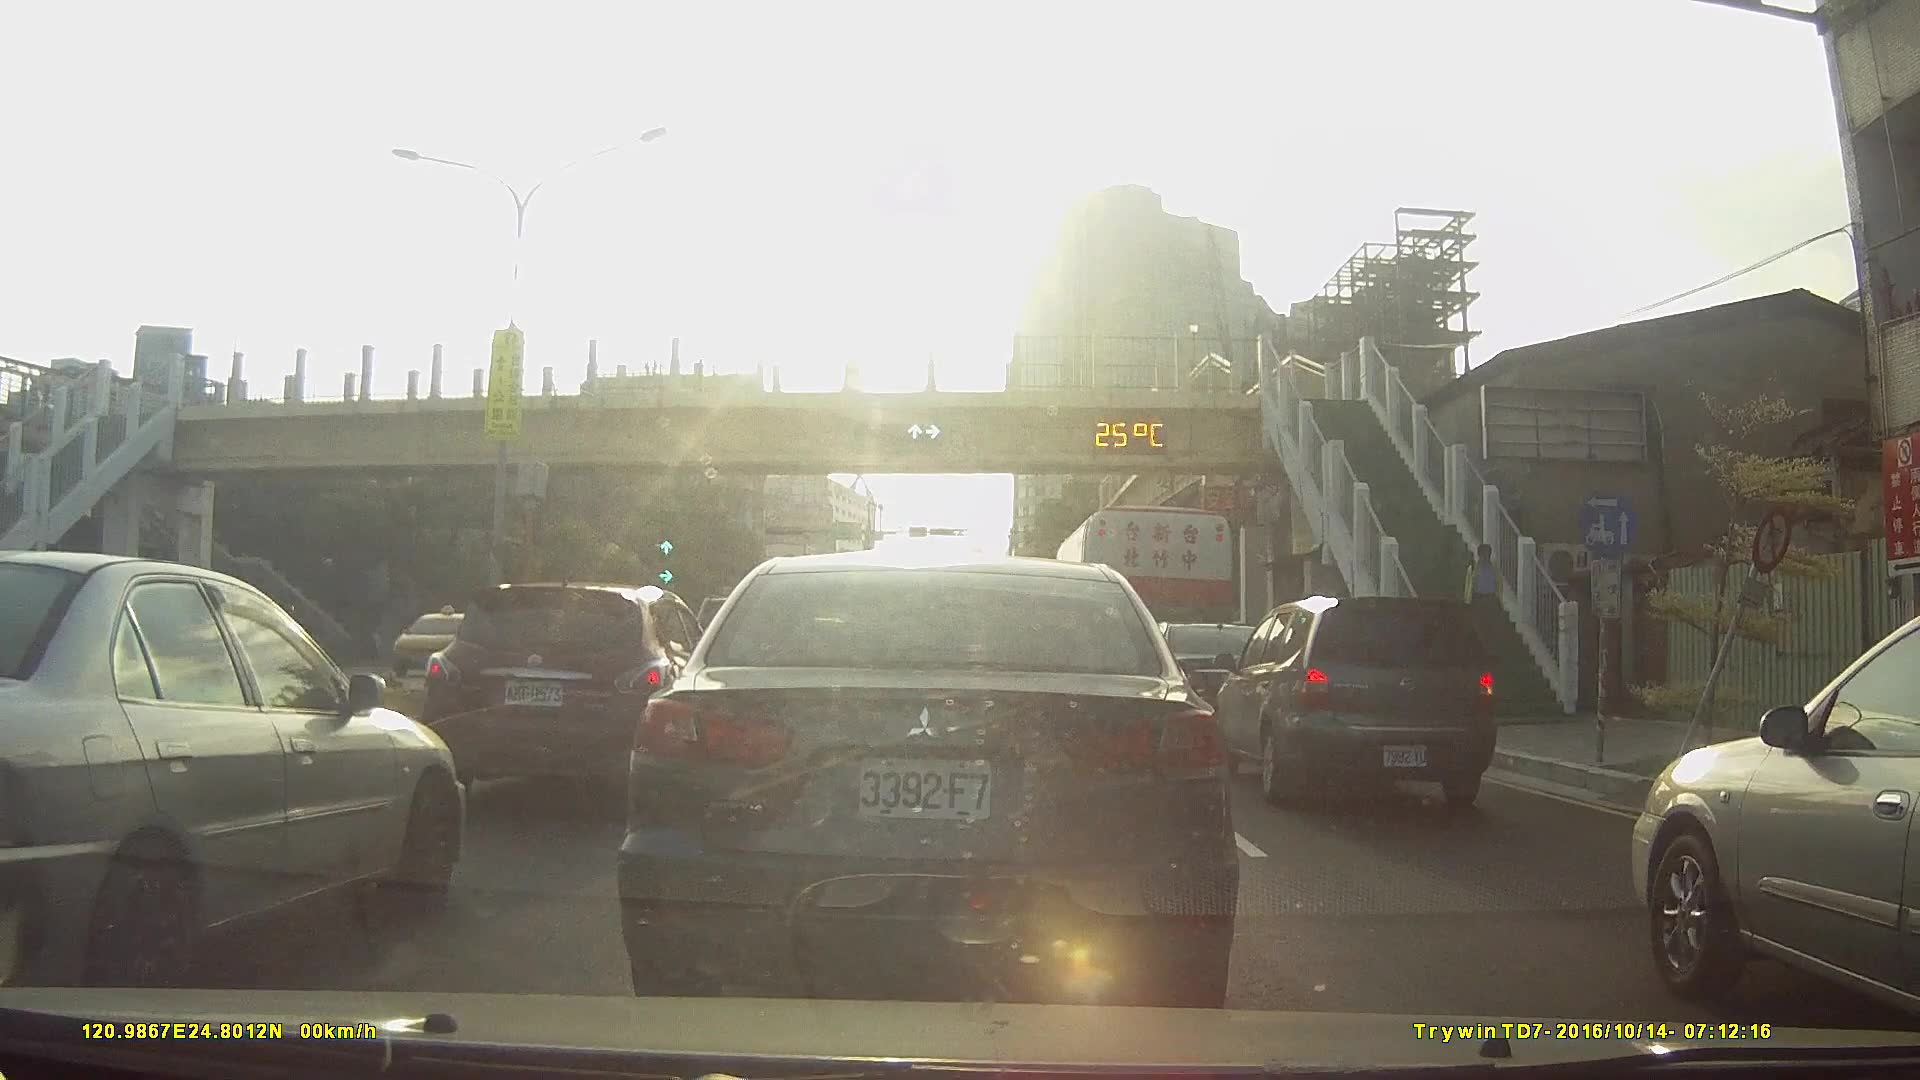pedestrian: (1463, 543, 1512, 649)
vehicle: (614, 553, 1240, 1002), (0, 548, 470, 995), (1618, 605, 1920, 1018), (1209, 593, 1511, 808), (427, 579, 723, 797), (1102, 615, 1285, 739), (388, 611, 504, 683)
